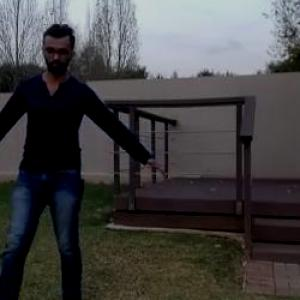land: (0, 43, 131, 299)
